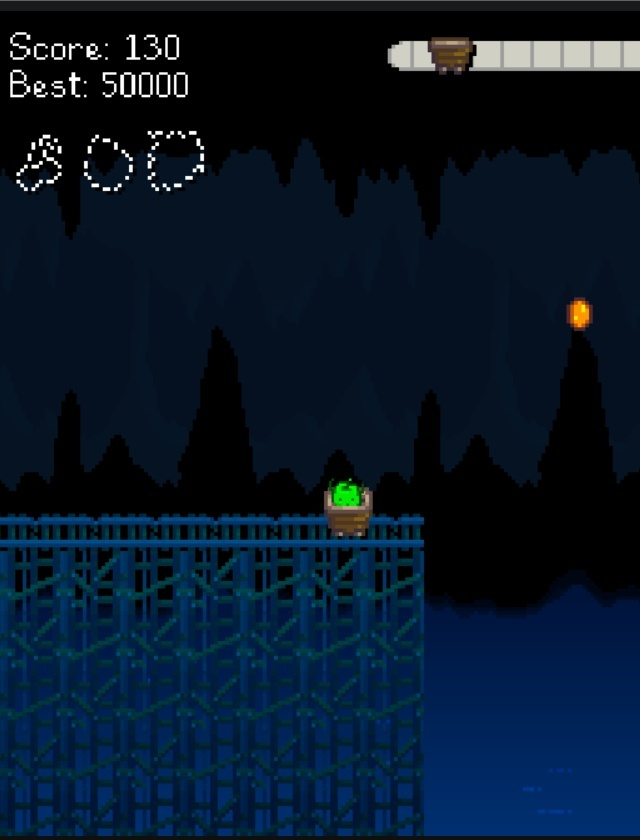coins: (566, 298, 592, 331)
minecart: (325, 488, 371, 534)
tracks: (0, 515, 423, 579)
